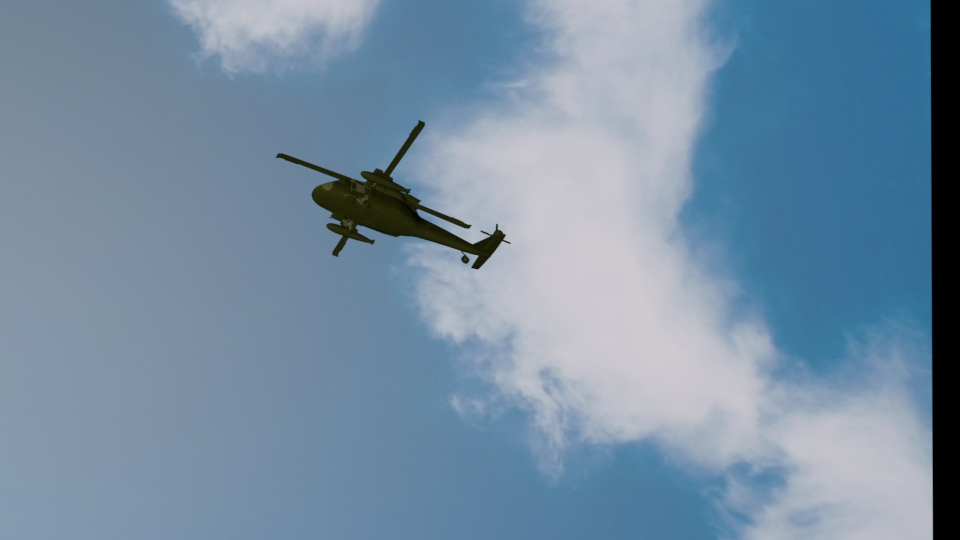heli: (272, 119, 511, 271)
